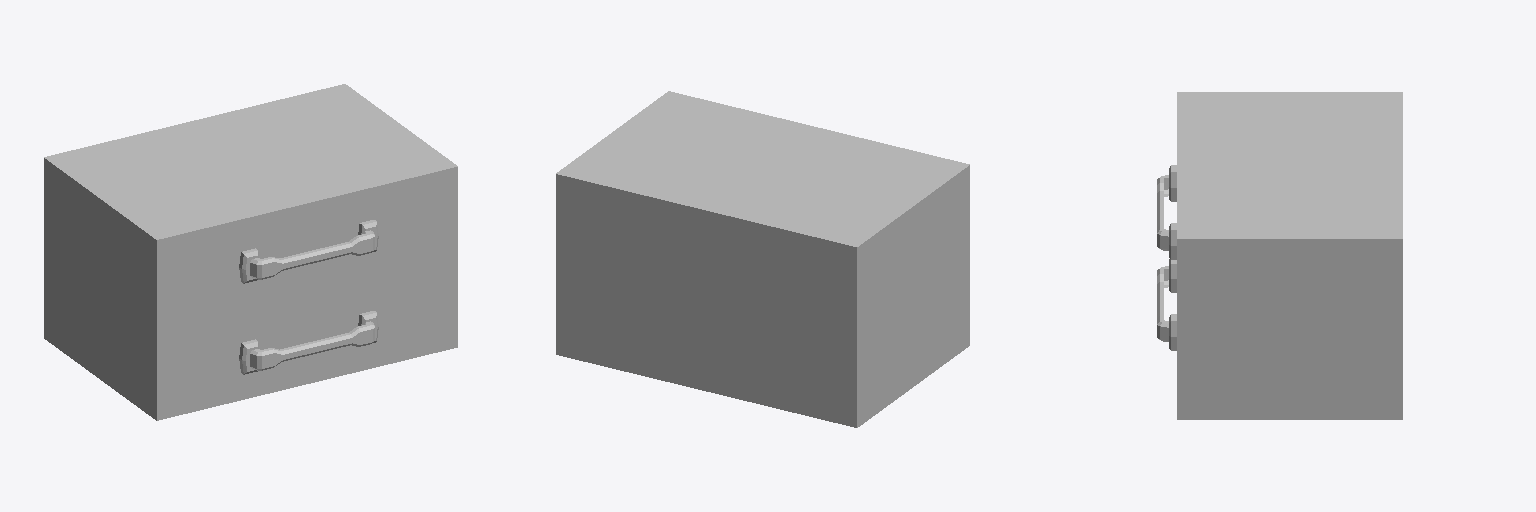
The model's file is Workbench_Drawers.obj.
3 renders of one model, left to right at view 1: azimuth 30°, elevation 25°; view 2: azimuth 150°, elevation 25°; view 3: azimuth 270°, elevation 25°, orthographic.
Visible parts, largest first — view 1: Workbench_Drawers_Cube.028; view 2: Workbench_Drawers_Cube.028; view 3: Workbench_Drawers_Cube.028.
Part boxes in pixels (left/top/right/bottom): Workbench_Drawers_Cube.028: left=44, top=84, right=457, bottom=420; Workbench_Drawers_Cube.028: left=556, top=91, right=969, bottom=427; Workbench_Drawers_Cube.028: left=1157, top=92, right=1402, bottom=419.
Size of the model in its own units: 0.4231 by 0.2423 by 0.299.